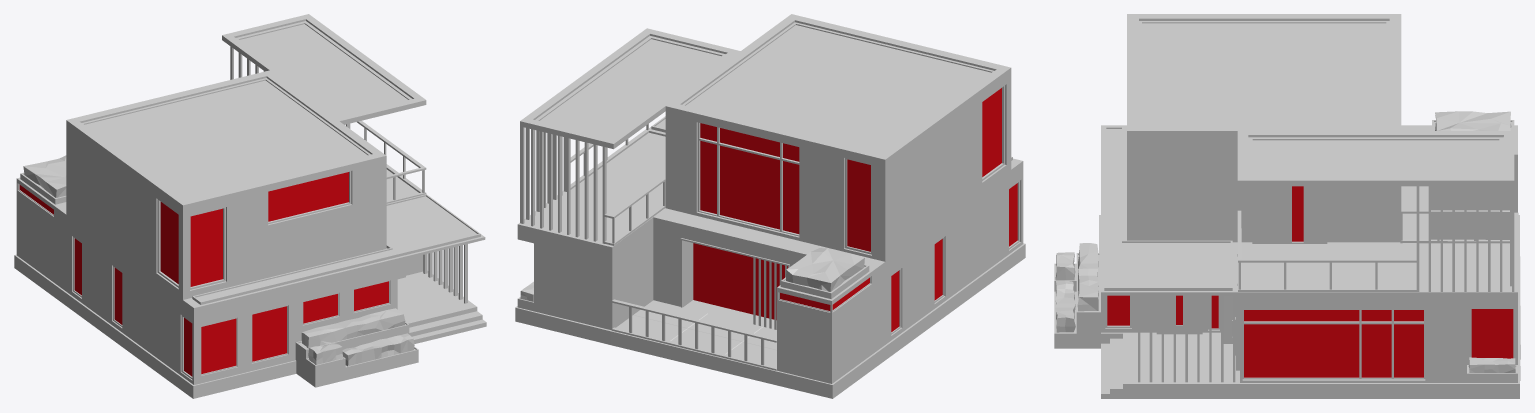
The model's file is SM_cottage_01.glb.
3 renders of one model, left to right at view 1: azimuth 30°, elevation 25°; view 2: azimuth 150°, elevation 25°; view 3: azimuth 270°, elevation 25°, orthographic. The views are drawn at different scales.
Parts seen in each view (by area): view 1: cottage_01; view 2: cottage_01; view 3: cottage_01.
Part boxes in pixels (<box>): cottage_01: <box>14,14,486,398</box>; cottage_01: <box>515,14,1025,398</box>; cottage_01: <box>1054,14,1520,398</box>.
Bounding box in the file's own units: 12 × 7.19 × 14.
